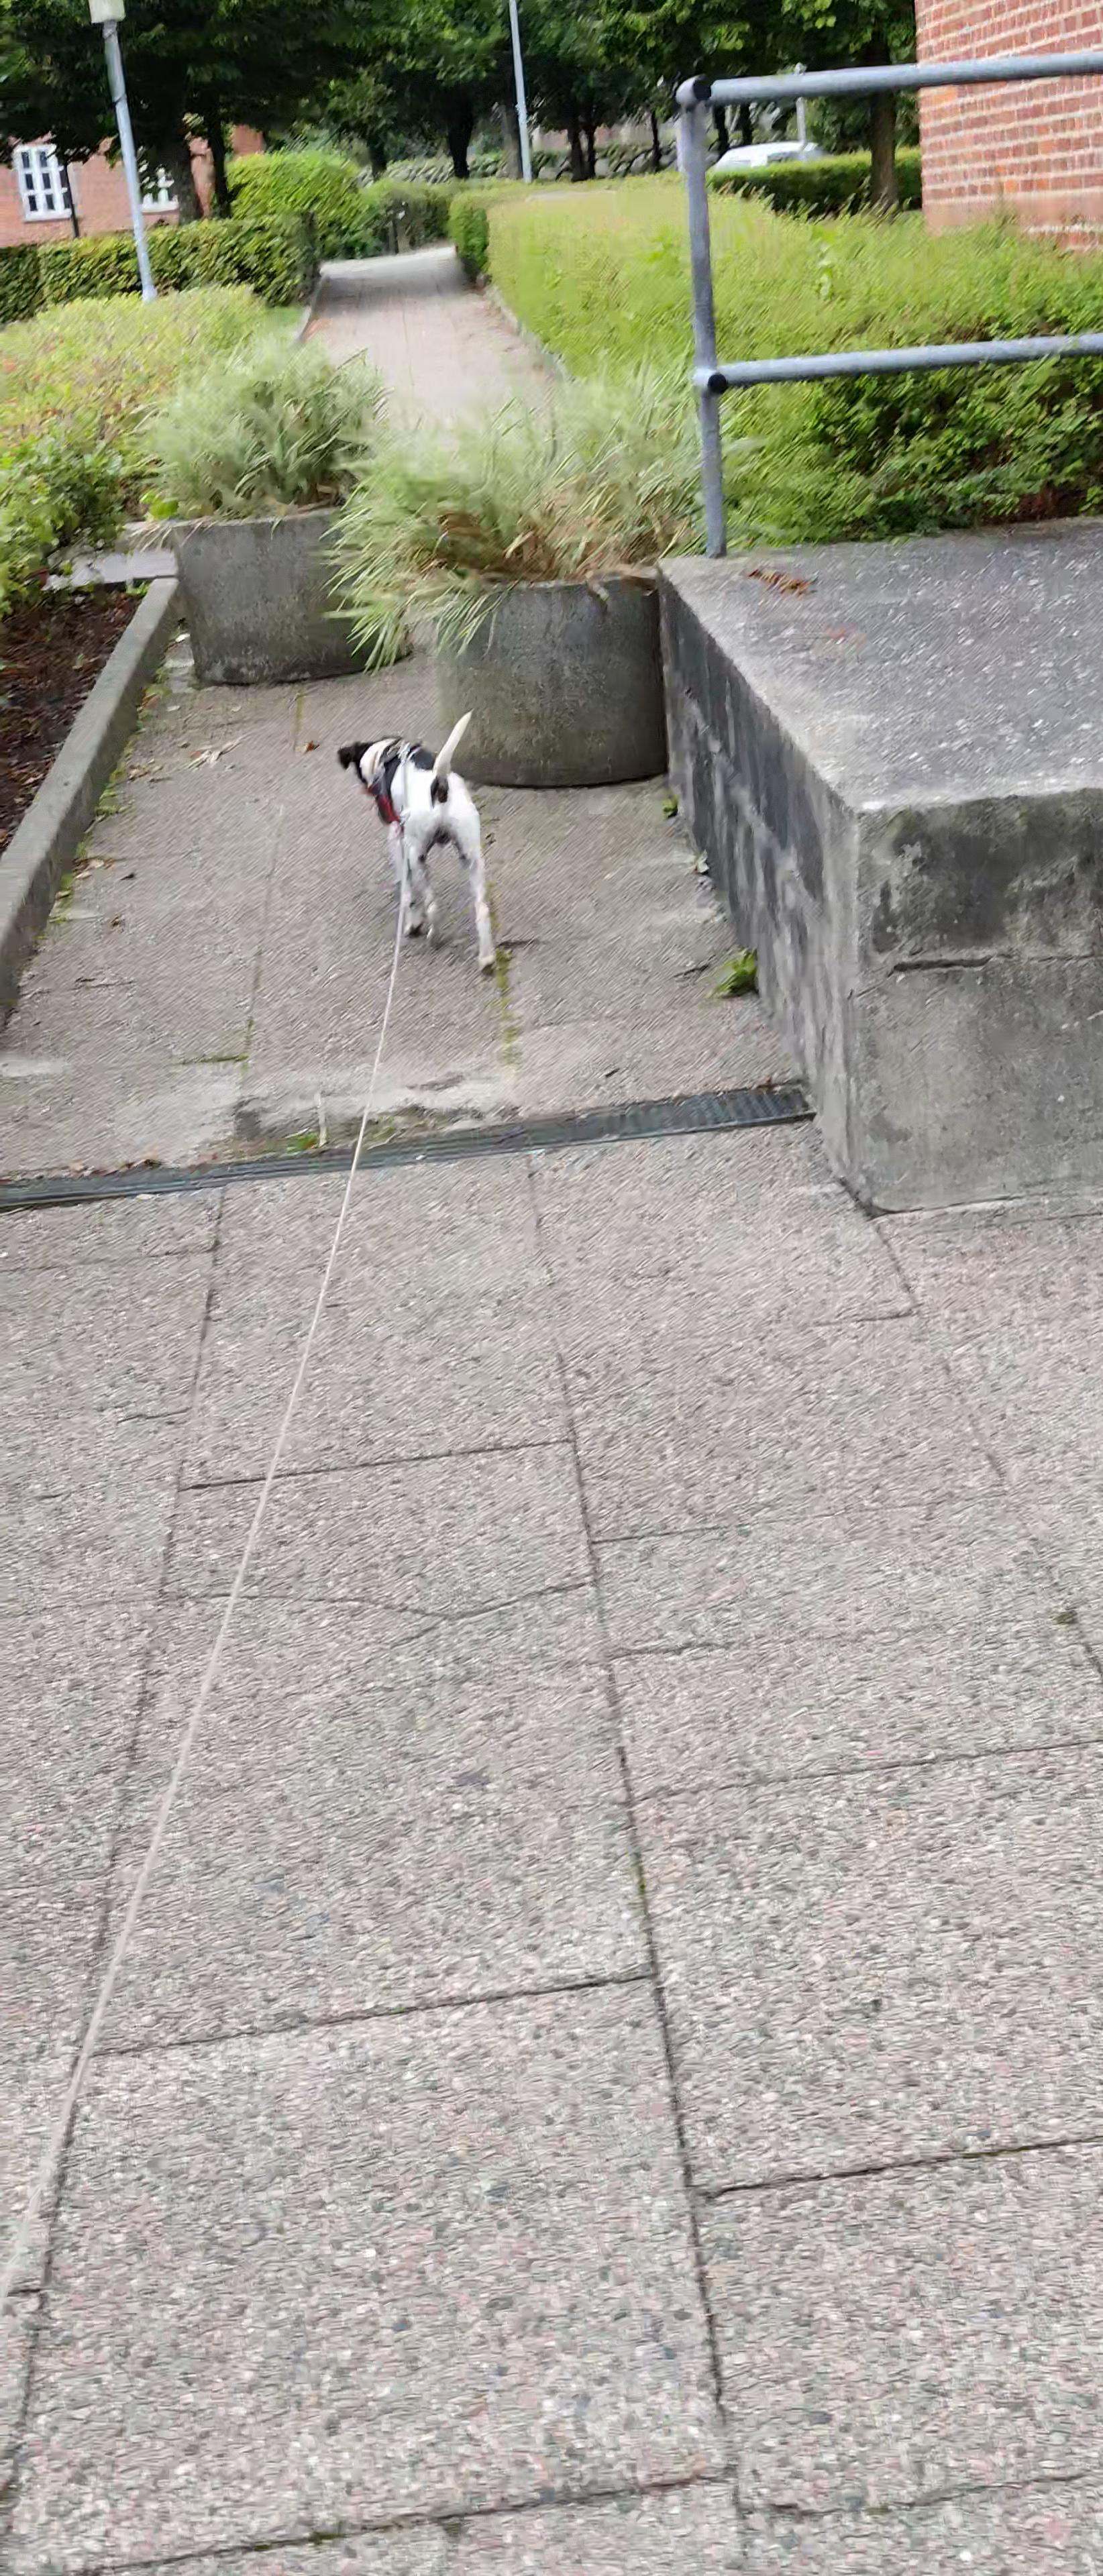Dog: (335, 708, 498, 979)
